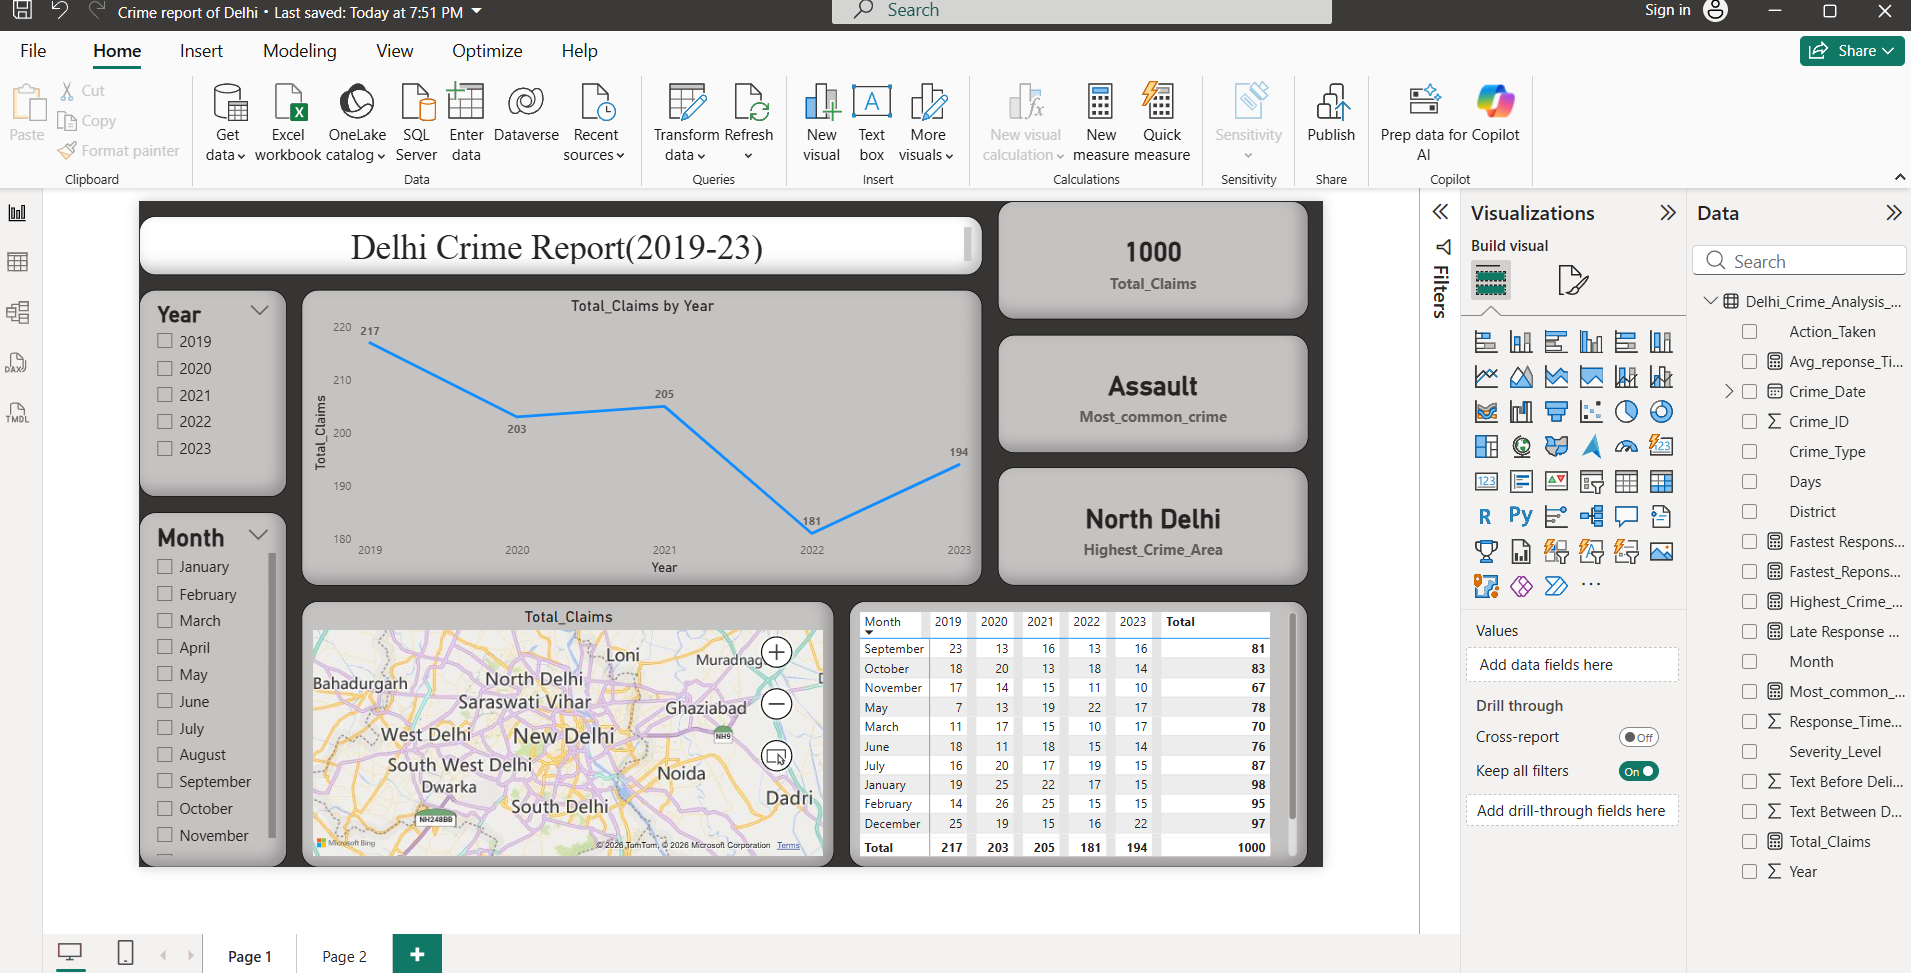

Layout of this report page (visuals, bound fields, positions):
{"tool":"powerbi","page":{"name":"Page 1","canvas":[1280,720],"ordinal":0},"visuals":[{"type":"card","fields":{"Values":["Delhi_Crime_Analysis_Data.Total_Claims"]},"box":[928,0,336,128],"z":0},{"type":"lineChart","fields":{"Y":["Delhi_Crime_Analysis_Data.Total_Claims"],"Category":["Delhi_Crime_Analysis_Data.Year"]},"box":[176,96,736,320],"z":1000},{"type":"slicer","fields":{"Values":["Delhi_Crime_Analysis_Data.Crime_Date.Variation.Date Hierarchy.Month"]},"box":[0,336,160,384],"z":2000},{"type":"card","fields":{"Values":["Delhi_Crime_Analysis_Data.Most_common_crime"]},"box":[928,144,336,128],"z":3000},{"type":"card","fields":{"Values":["Delhi_Crime_Analysis_Data.Highest_Crime_Area"]},"box":[928,288,336,128],"z":4000},{"type":"slicer","fields":{"Values":["Delhi_Crime_Analysis_Data.Year"]},"box":[0,96,160,224],"z":5000},{"type":"textbox","box":[0,16,912,64],"z":6000},{"type":"map","fields":{"Size":["Delhi_Crime_Analysis_Data.Total_Claims"]},"box":[176,432,576,288],"z":7000},{"type":"pivotTable","fields":{"Rows":["Delhi_Crime_Analysis_Data.Month"],"Values":["Delhi_Crime_Analysis_Data.Total_Claims"],"Columns":["Delhi_Crime_Analysis_Data.Year"]},"box":[768,432,496,288],"z":8000}]}

Visuals, with their boxes on the page's 1280x720 design canvas (x1, y1, x2, y2). These are canvas units, not pixel positions in the 1911x973 screenshot, which may show the page scaled, cropped or inside an application window:
card - Delhi_Crime_Analysis_Data.Total_Claims: box=[928, 0, 1264, 128]
lineChart - Delhi_Crime_Analysis_Data.Total_Claims x Delhi_Crime_Analysis_Data.Year: box=[176, 96, 912, 416]
slicer - Delhi_Crime_Analysis_Data.Crime_Date.Variation.Date Hierarchy.Month: box=[0, 336, 160, 720]
card - Delhi_Crime_Analysis_Data.Most_common_crime: box=[928, 144, 1264, 272]
card - Delhi_Crime_Analysis_Data.Highest_Crime_Area: box=[928, 288, 1264, 416]
slicer - Delhi_Crime_Analysis_Data.Year: box=[0, 96, 160, 320]
textbox: box=[0, 16, 912, 80]
map - Delhi_Crime_Analysis_Data.Total_Claims: box=[176, 432, 752, 720]
pivotTable - Delhi_Crime_Analysis_Data.Month x Delhi_Crime_Analysis_Data.Total_Claims: box=[768, 432, 1264, 720]
